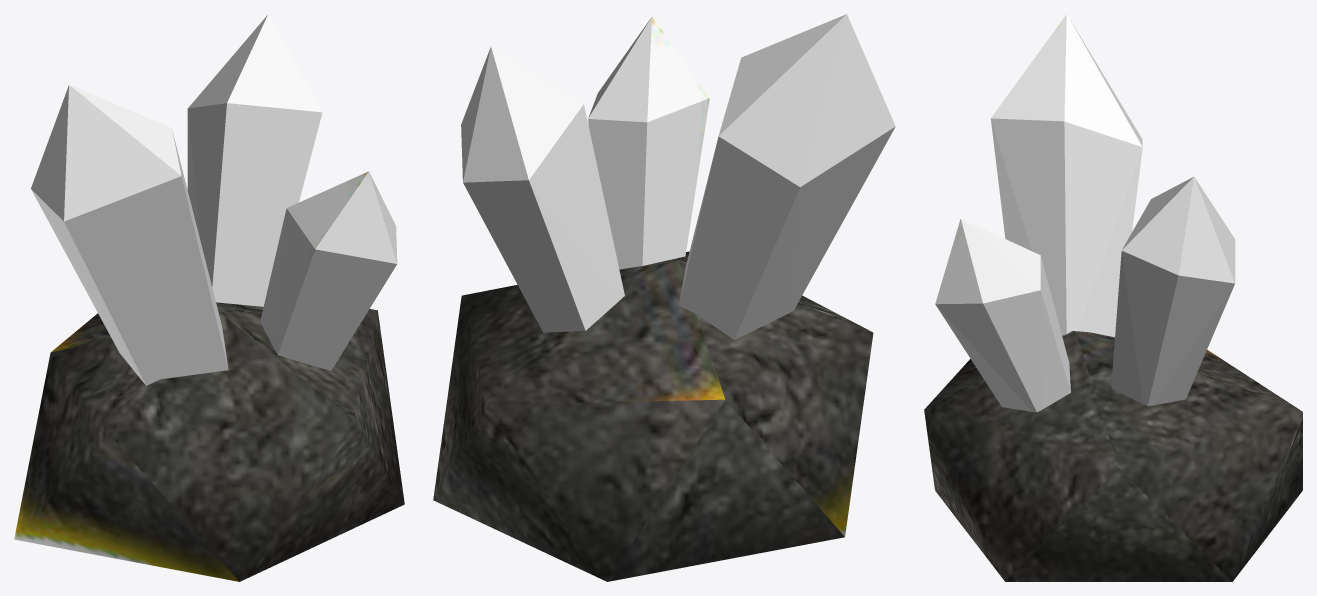
Rendered from WhiteCrystal.fbx.
3 views of the same model, side by side, from view 1: azimuth 30°, elevation 25°; view 2: azimuth 150°, elevation 25°; view 3: azimuth 270°, elevation 25° (orthographic). The views are drawn at different scales.
Parts seen in each view (by area): view 1: Crystal; view 2: Crystal; view 3: Crystal.
Boxes of the visible parts, <box> form: Crystal: <box>14,14,404,581</box>; Crystal: <box>433,14,895,581</box>; Crystal: <box>924,14,1302,581</box>.
Bounding box in the file's own units: 0.1484 × 0.2061 × 0.1453.
Materials: 1 (1 with a texture image).
